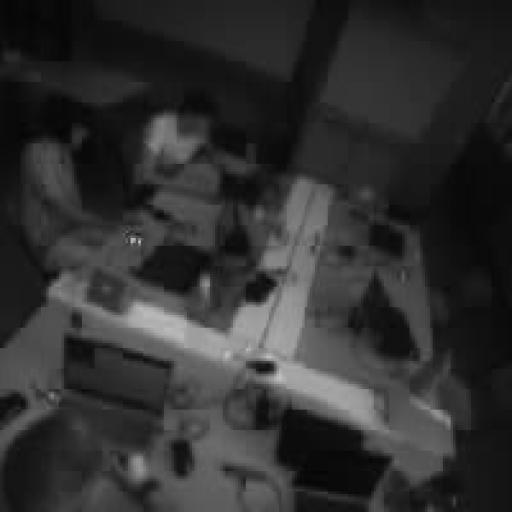human: (0, 410, 156, 511), (18, 105, 112, 271), (134, 90, 217, 184)
